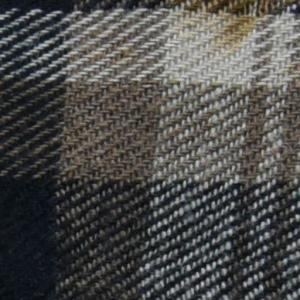Oil Stain: (160, 1, 300, 59)
